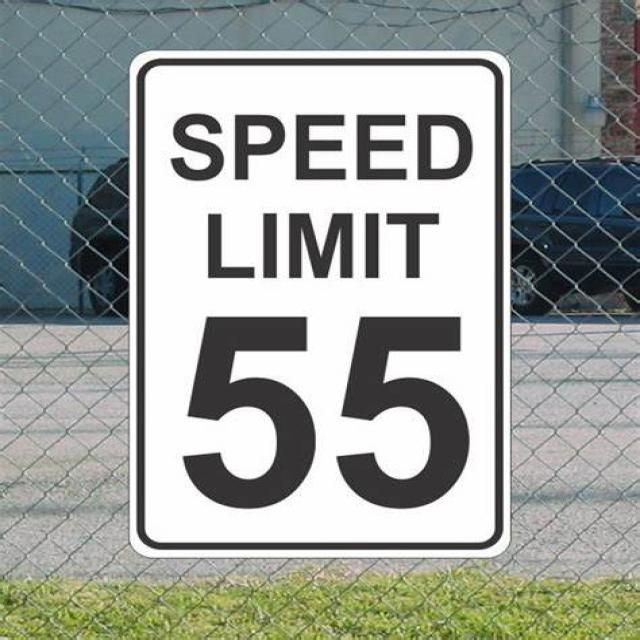speedLimit55: (116, 65, 510, 552)
